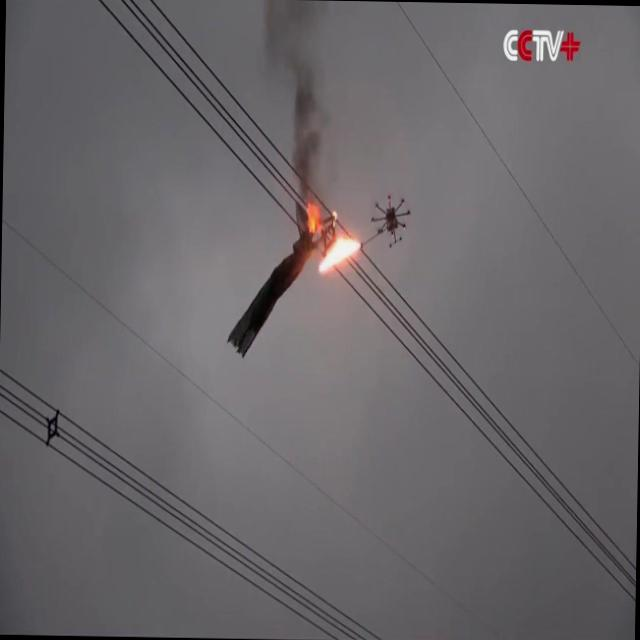drone: (370, 190, 413, 250)
